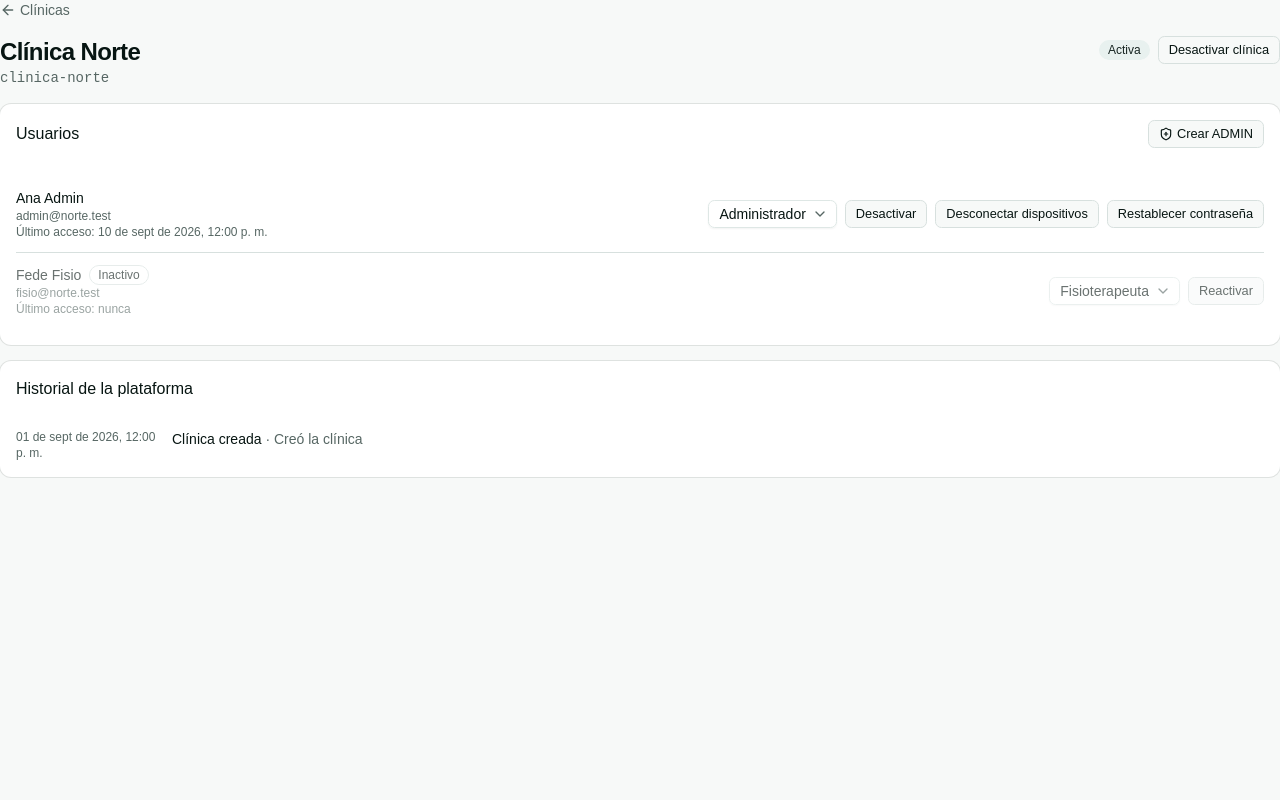
PlatformTenantDetailPage › desactivar a alguien pide confirmación; reactivar aplica directo
Click the button "Reactivar".
click(1226, 291)  # box [1188,277,1264,305]
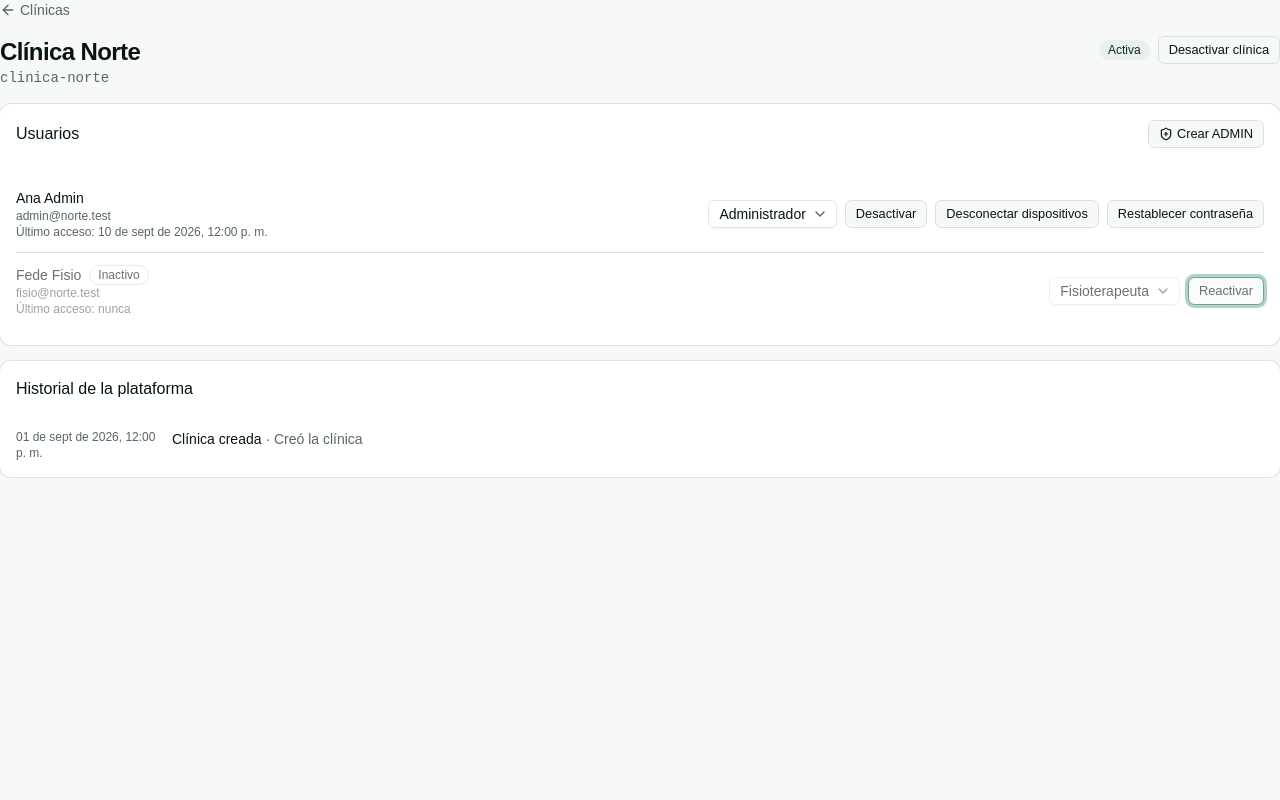
Click the button "Desactivar".
click(886, 214)  # box [845,200,927,228]
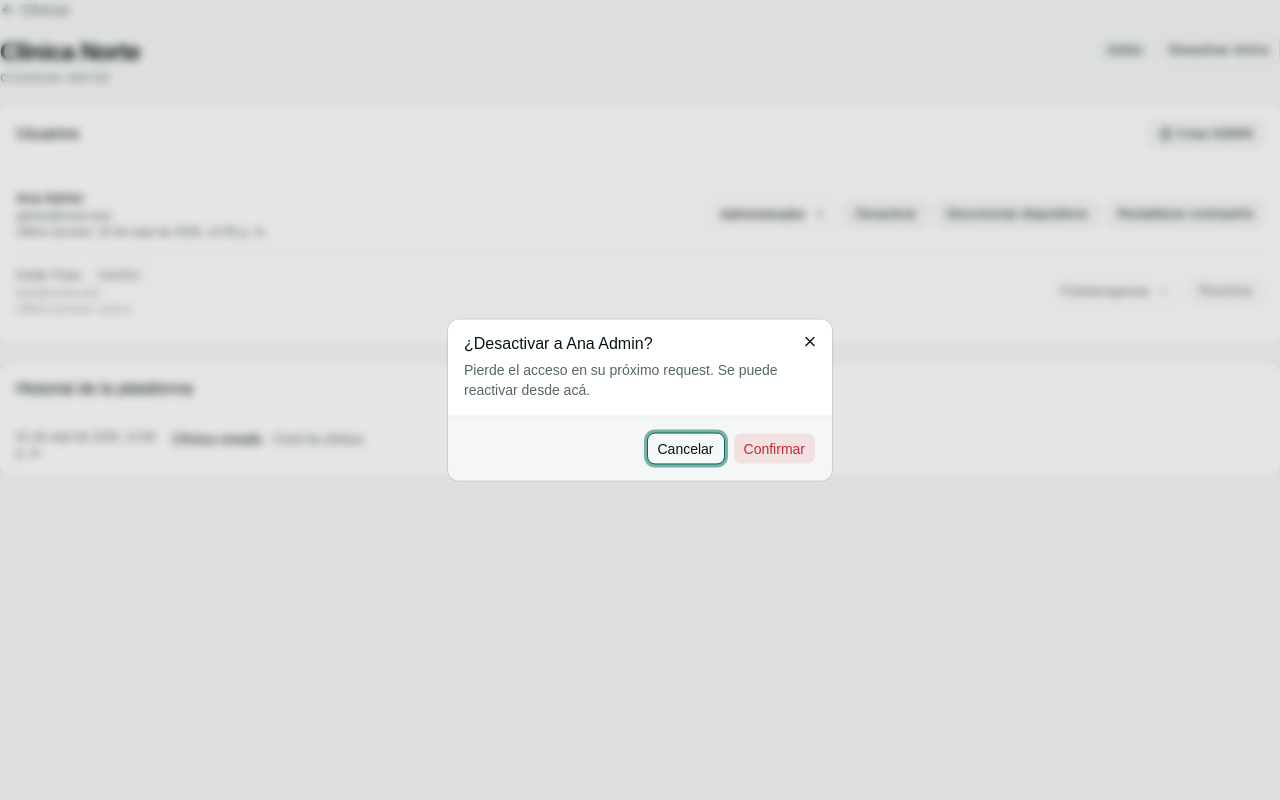
expect the dialog shows "¿Desactivar a Ana Admin?": met, box [464,334,652,352]
Click the button "Cancelar".
click(686, 448)  # box [646,432,724,464]
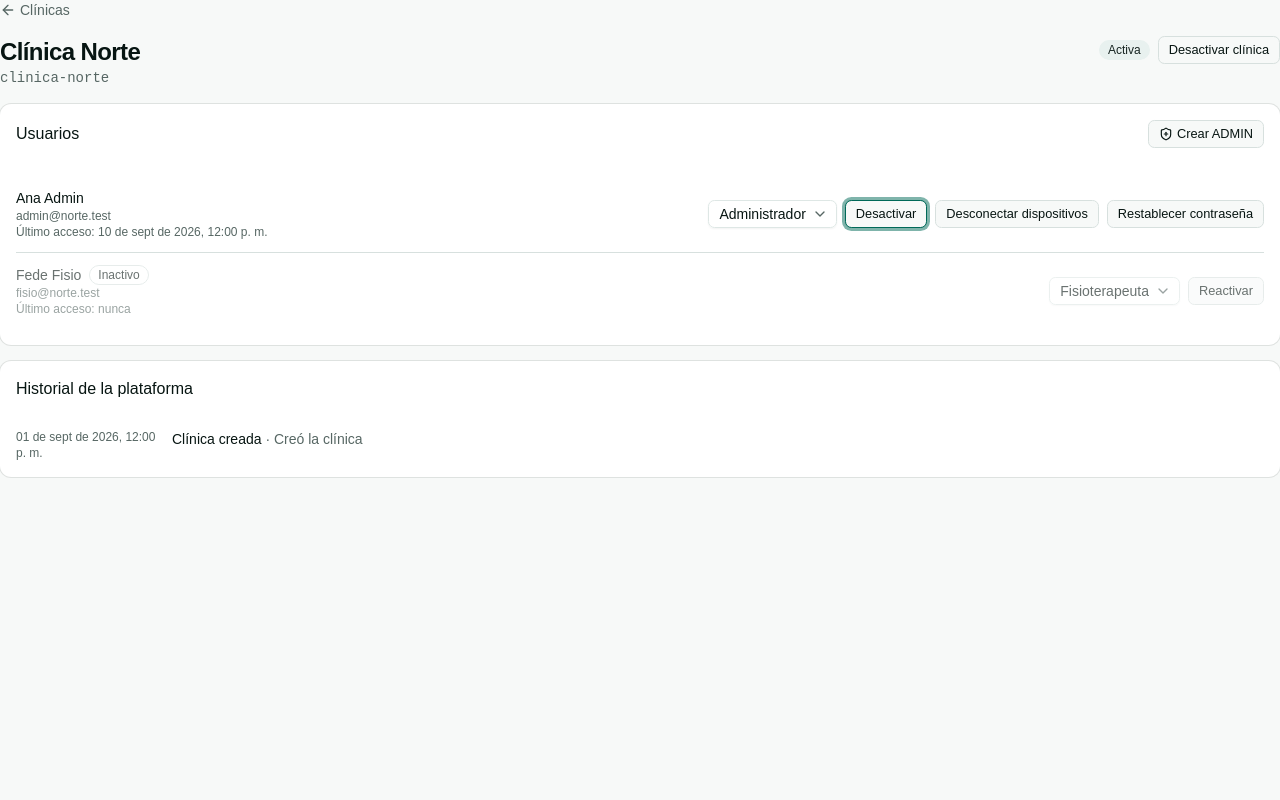
expect the dialog is gone: met
